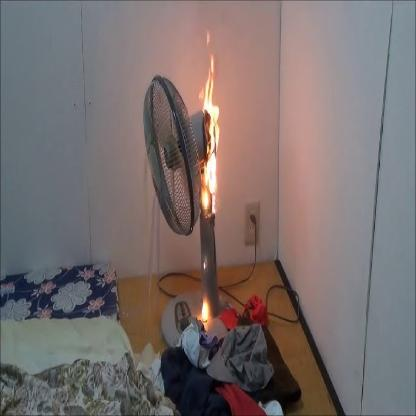fire: (194, 38, 223, 218), (199, 300, 211, 331)
